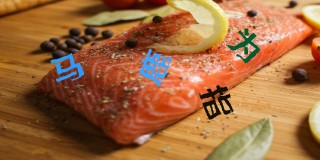为: (227, 27, 260, 63)
指: (198, 85, 234, 120)
马: (49, 53, 85, 82)
鹿: (138, 48, 171, 86)
